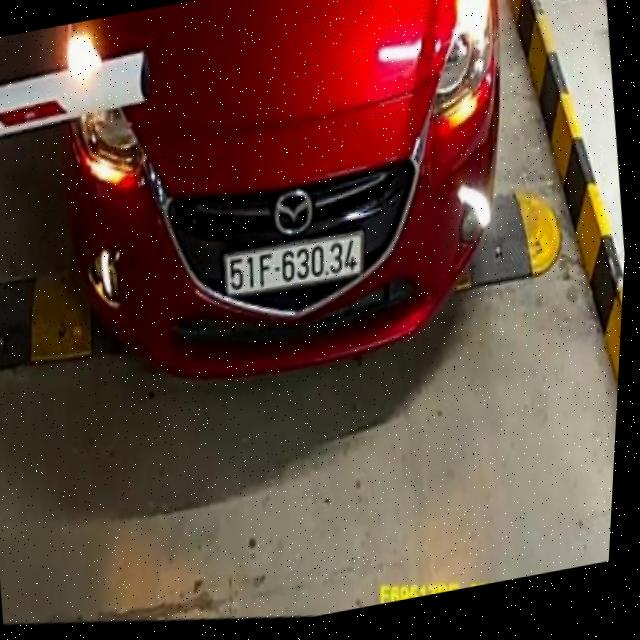car: (9, 0, 557, 422)
plate: (213, 218, 371, 309)
